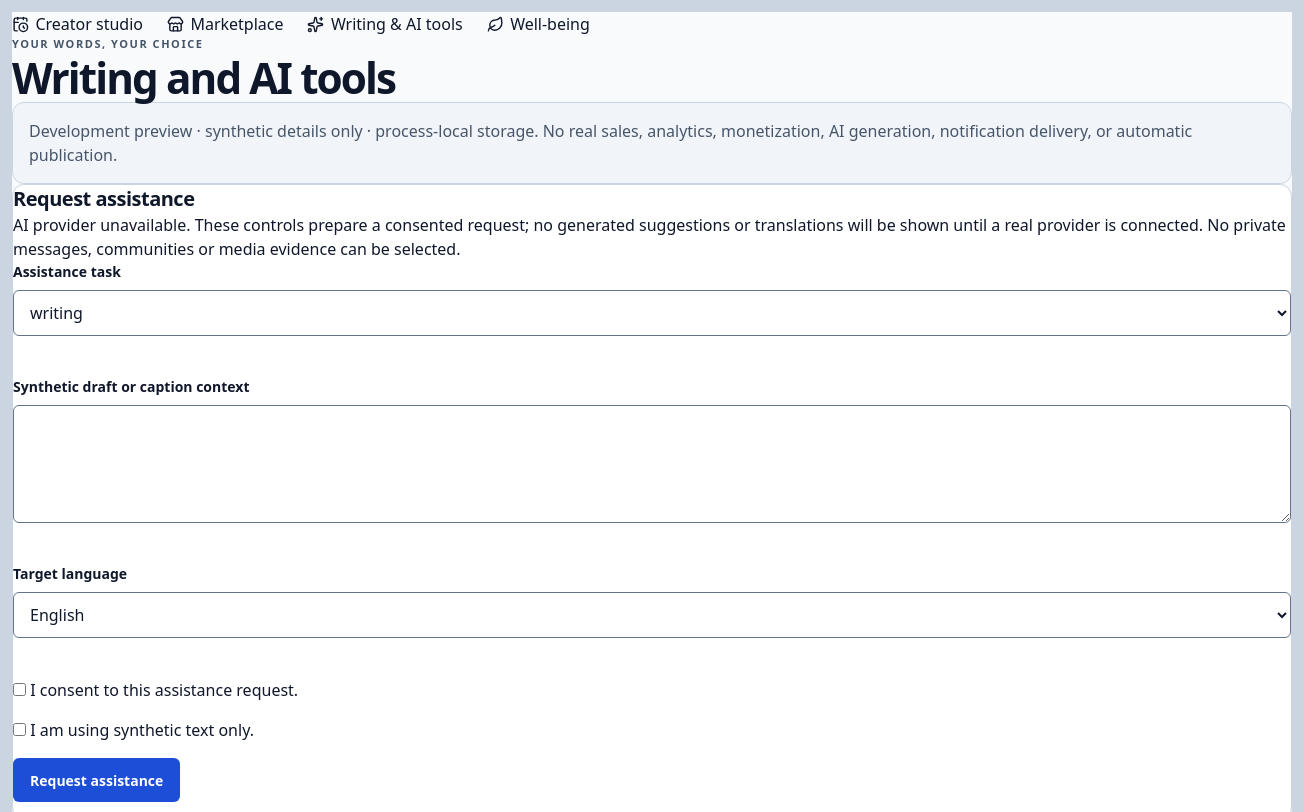
Scenario: Phase 12 explicit review and failure UI › shows unavailable AI without generated suggestions and keeps the manual workspace
The image size is (1304, 812).
Type "Synthetic request" into the text box labelled "Synthetic draft or caption context".
click(652, 464); type("Synthetic request")  # box x1=13 y1=405 x2=1291 y2=523
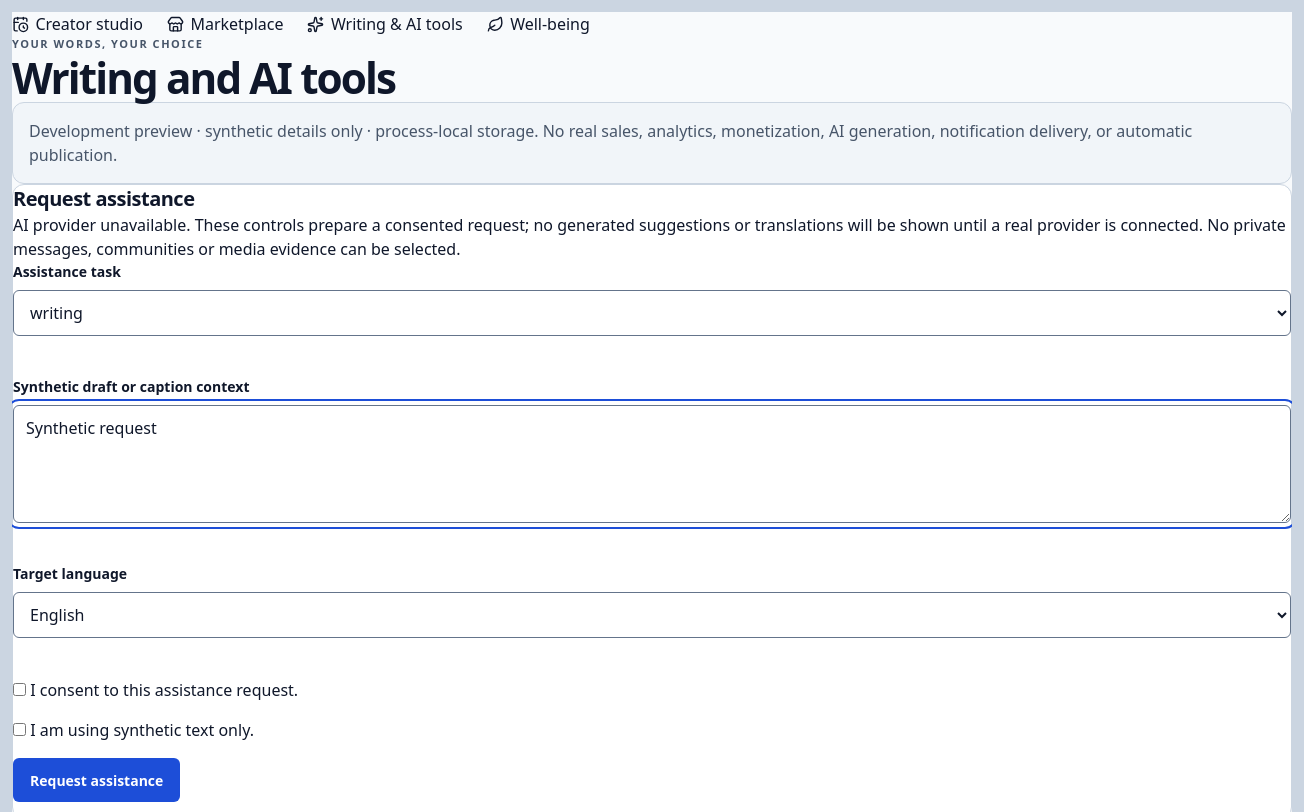
Click the checkbox labelled "I consent to this assistance request.".
click(20, 690)  # box x1=13 y1=683 x2=26 y2=696
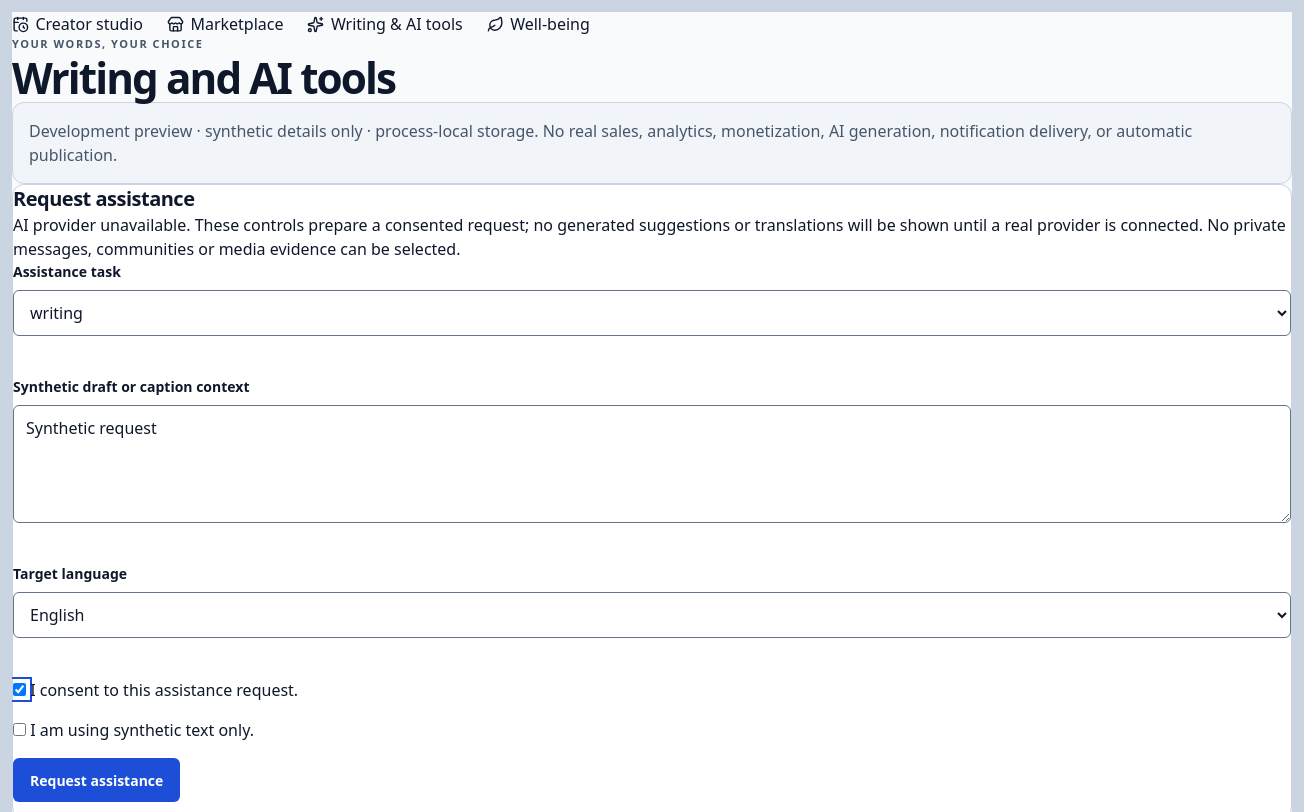
Click the checkbox labelled "I am using synthetic text only.".
click(20, 730)  # box x1=13 y1=723 x2=26 y2=736
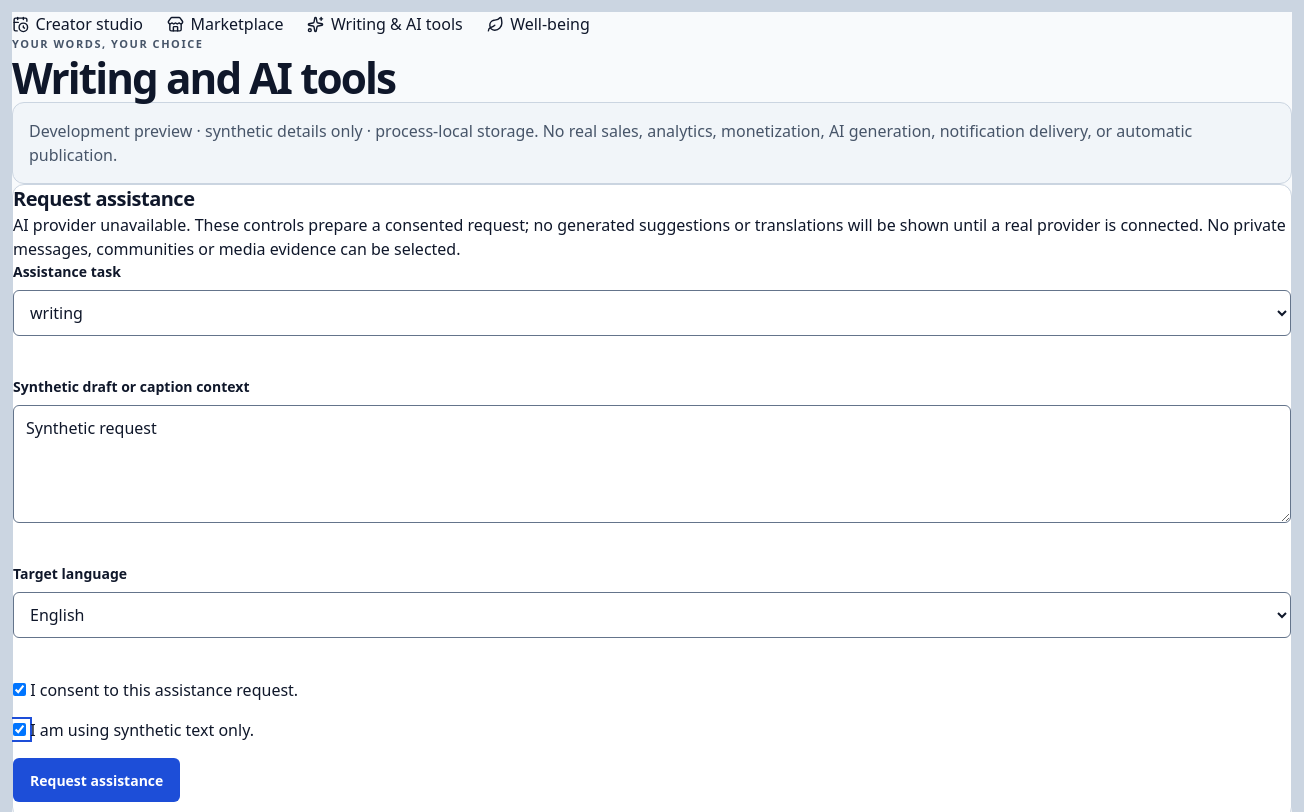
Click the button "Request assistance".
click(97, 780)  # box x1=13 y1=758 x2=180 y2=802
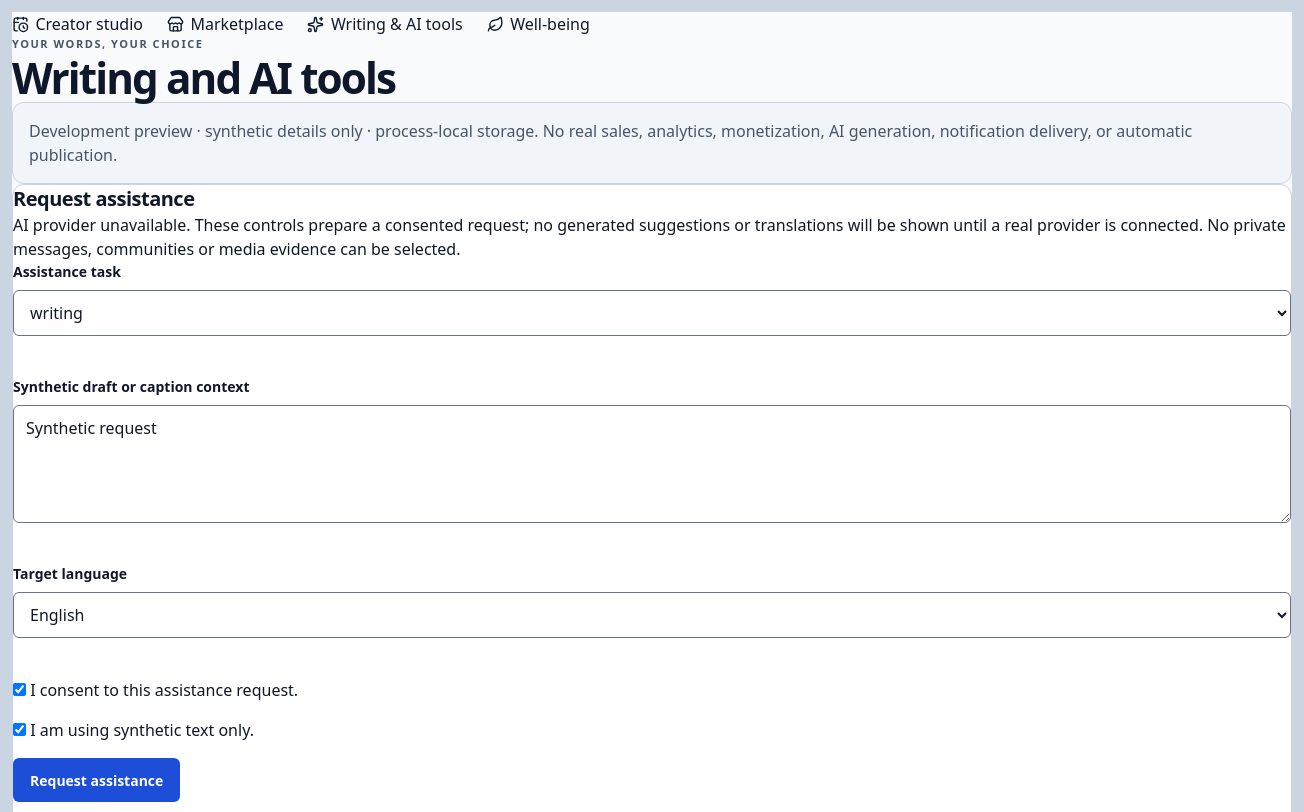
Select "translation" in the dropdown labelled "Assistance task" at (652, 313), box x1=13 y1=290 x2=1291 y2=336
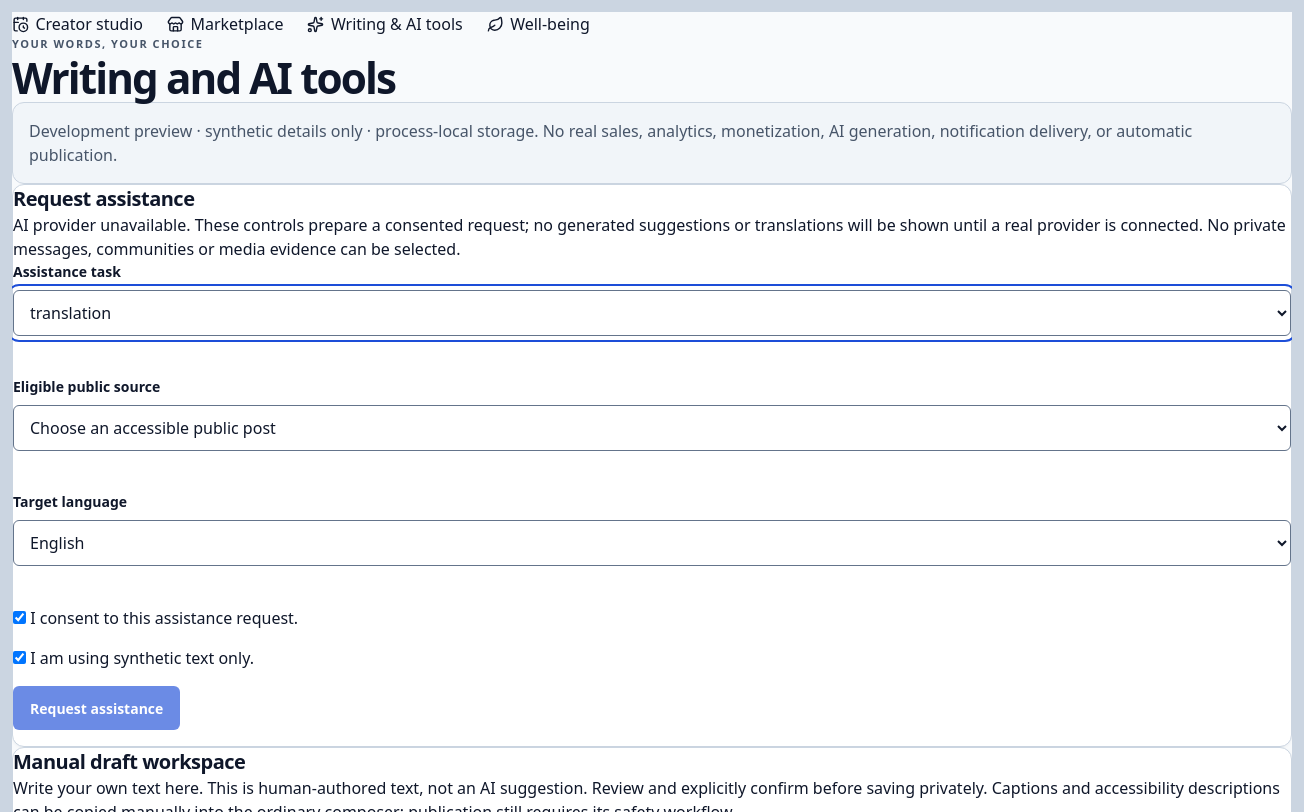
Check: the button "Request assistance" is disabled, box x1=13 y1=686 x2=180 y2=730
